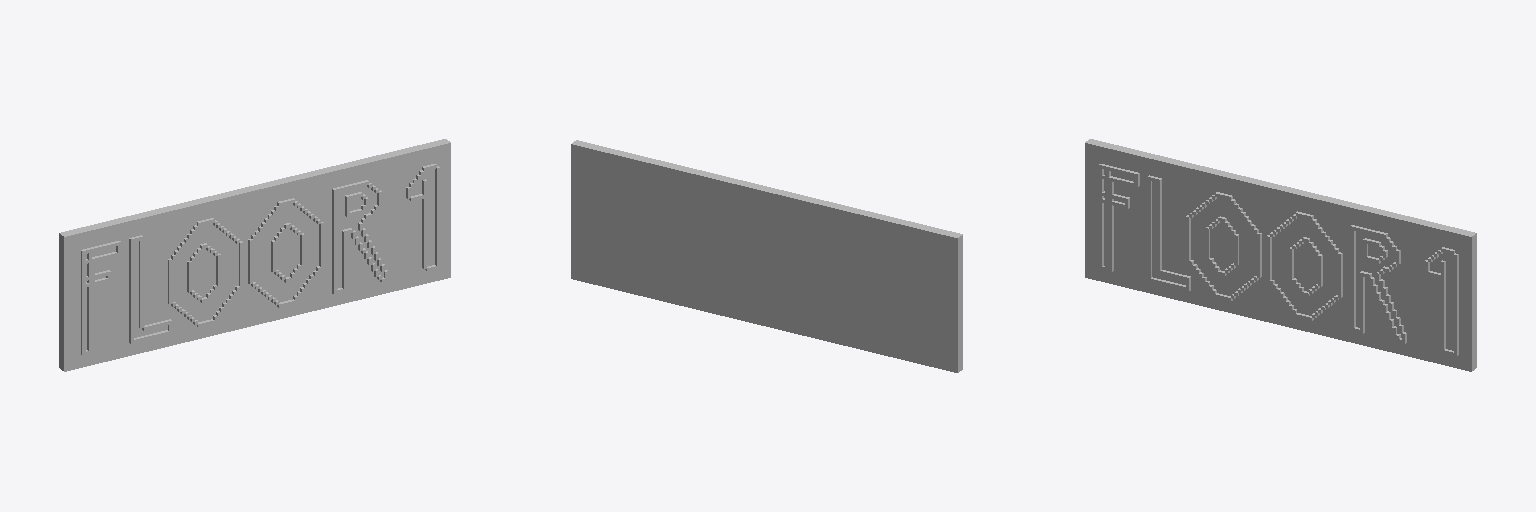
The model's file is floor 1.obj.
The picture shows the model from 3 angles: view 1: azimuth 30°, elevation 25°; view 2: azimuth 150°, elevation 25°; view 3: azimuth 330°, elevation 25°; orthographic projection.
Visible parts, largest first — view 1: object 1; view 2: object 1; view 3: object 1.
Boxes of the visible parts, x1=… form: object 1: x1=59, y1=139, x2=450, y2=371; object 1: x1=571, y1=140, x2=962, y2=372; object 1: x1=1085, y1=139, x2=1476, y2=371.
Bounding box in the file's own units: 12 × 4 × 0.4.